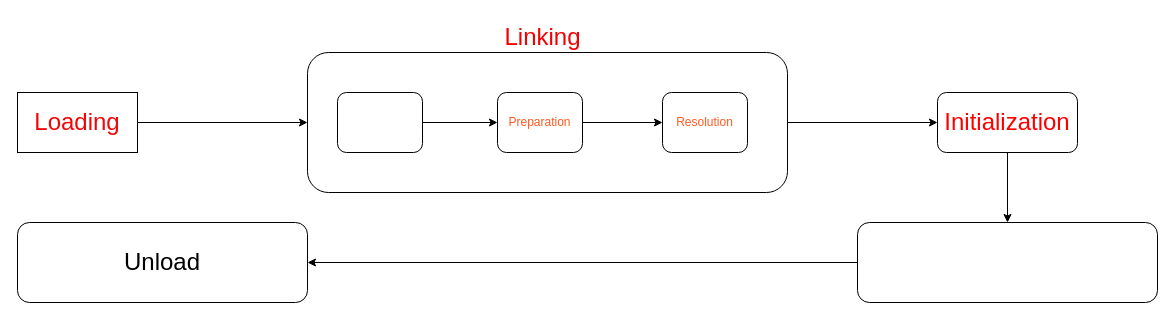
The diagram is 1175 pixels wide and 320 high, and some of its shapes have lost their labels. The shapes that lost their labels are listed below. From the top down, each one's box as (x1, y1, x2, y2) in pixels, then its label:
(336, 92, 422, 152): Verification
(856, 222, 1158, 302): Using
